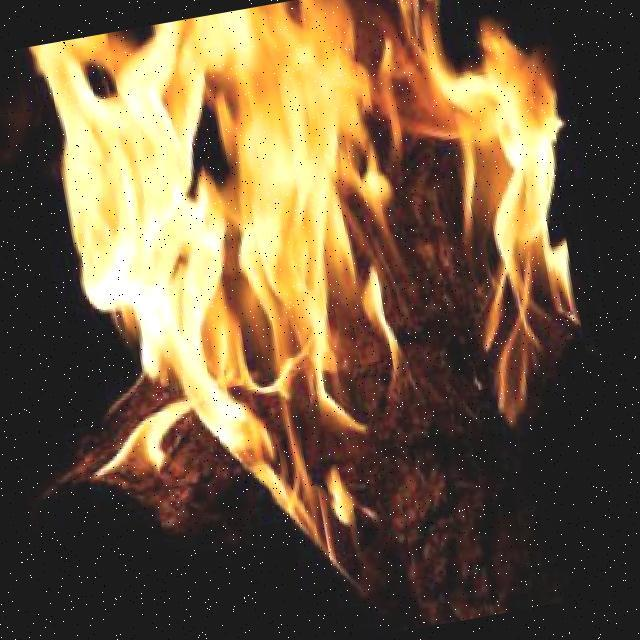Fire: (10, 0, 635, 602)
